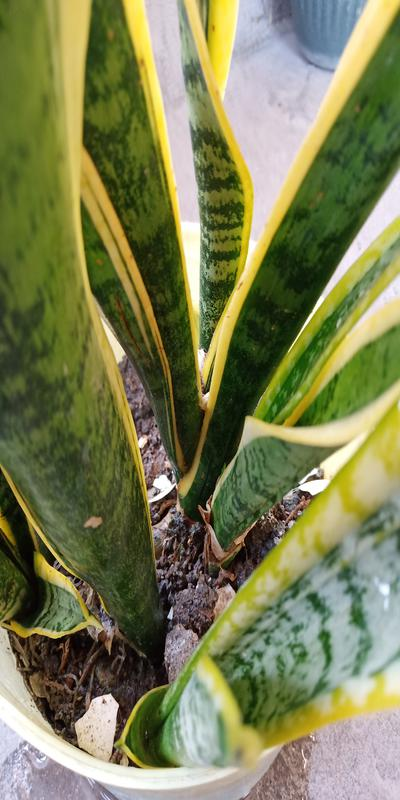Snake plant: (13, 10, 369, 731)
